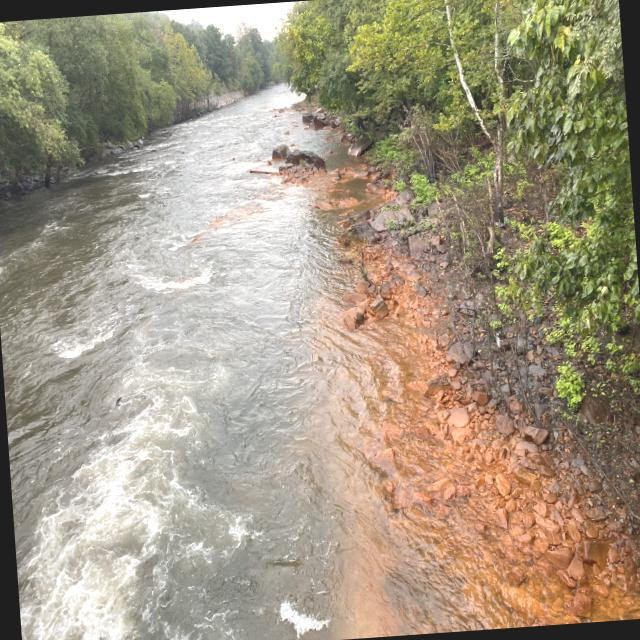yellow_boy: (244, 236, 556, 640)
